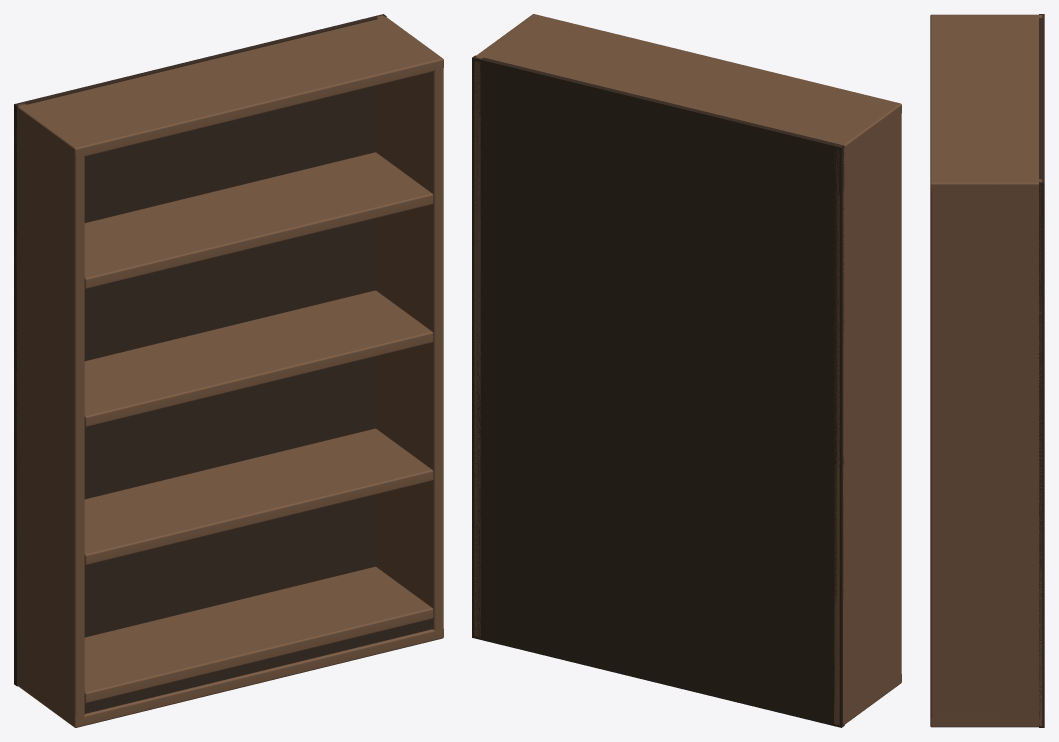
Rendered from bookcase.glb.
3 renders of one model, left to right at view 1: azimuth 30°, elevation 25°; view 2: azimuth 150°, elevation 25°; view 3: azimuth 270°, elevation 25°, orthographic. The views are drawn at different scales.
Parts seen in each view (by area): view 1: board_0, back; view 2: back, board_0; view 3: board_0, back.
Part boxes in pixels (x1=…): board_0: x1=15, y1=15, x2=443, y2=727; back: x1=14, y1=14, x2=432, y2=713; back: x1=472, y1=55, x2=844, y2=727; board_0: x1=474, y1=14, x2=901, y2=725; board_0: x1=930, y1=14, x2=1042, y2=727; back: x1=1039, y1=14, x2=1044, y2=727.
Bounding box in the file's own units: 1.4 × 2.1 × 0.4.
